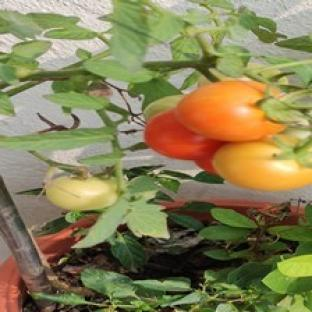Tomato: (176, 81, 284, 140), (214, 140, 311, 190), (144, 111, 222, 160), (45, 176, 118, 211), (144, 95, 185, 121), (248, 63, 288, 84), (195, 156, 217, 174)
